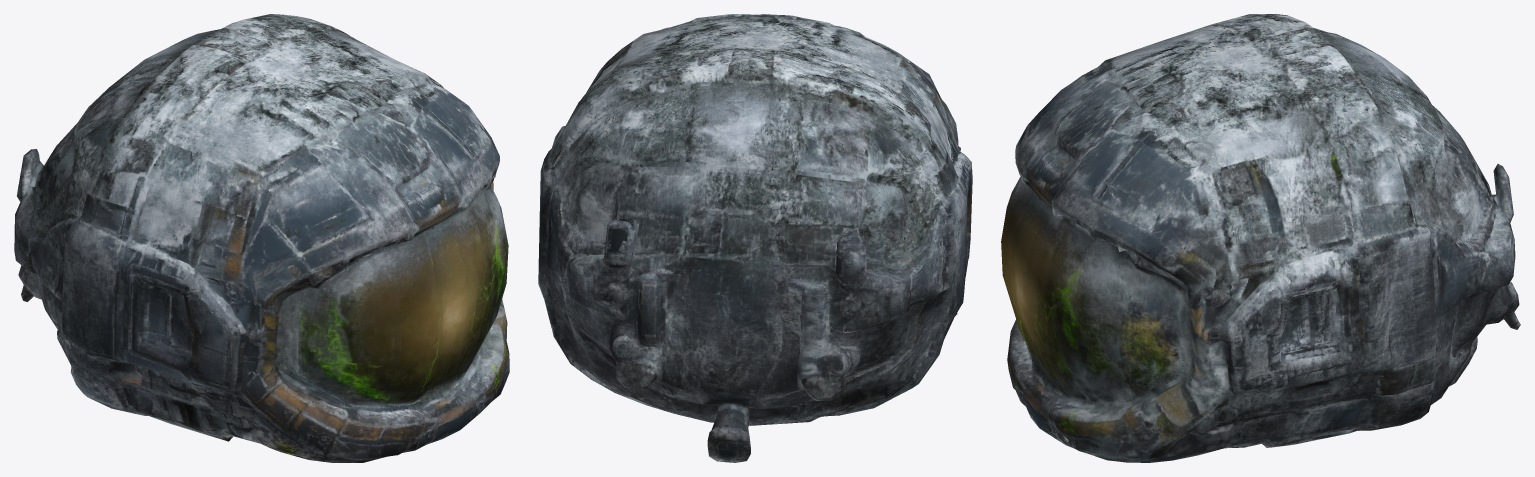
File: cargo_crate.glb
3 views of the same model, side by side, from view 1: azimuth 30°, elevation 25°; view 2: azimuth 150°, elevation 25°; view 3: azimuth 270°, elevation 25° (orthographic). The views are drawn at different scales.
Visible parts, largest first — view 1: low; view 2: low; view 3: low.
Boxes of the visible parts, x1=… form: low: x1=14, y1=14, x2=509, y2=462; low: x1=538, y1=14, x2=972, y2=462; low: x1=1001, y1=14, x2=1520, y2=462.
Bounding box in the file's own units: 2.37 × 1.95 × 2.5.
Materials: 1 (1 with a texture image).
